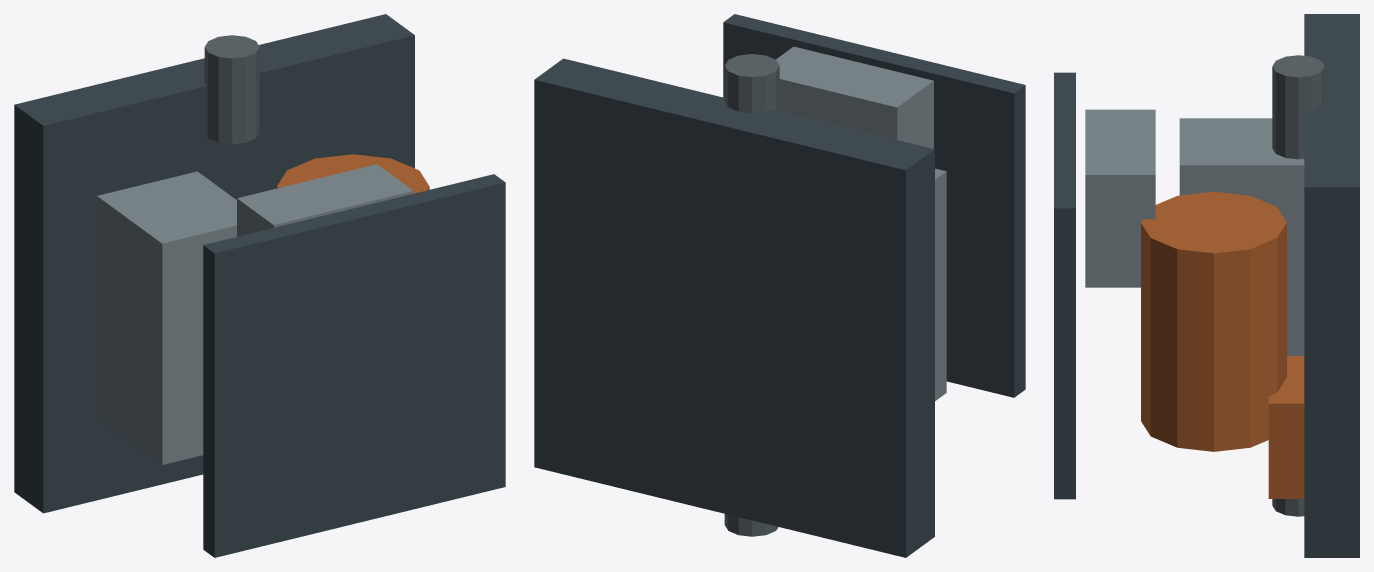
File: tank-ammo-assembling-machine.obj
The picture shows the model from 3 angles, left to right: view 1: azimuth 30°, elevation 25°; view 2: azimuth 150°, elevation 25°; view 3: azimuth 270°, elevation 25°; orthographic projection. The views are drawn at different scales.
Visible parts, largest first — view 1: tank-ammo-assembling-machine_safety_cage, tank-ammo-assembling-machine_factory_base, tank-ammo-assembling-machine_munitions_feeder, tank-ammo-assembling-machine_loading_hopper, tank-ammo-assembling-machine_north_oil_inlet, tank-ammo-assembling-machine_case_former; view 2: tank-ammo-assembling-machine_factory_base, tank-ammo-assembling-machine_safety_cage, tank-ammo-assembling-machine_loading_hopper, tank-ammo-assembling-machine_north_oil_inlet, tank-ammo-assembling-machine_munitions_feeder, tank-ammo-assembling-machine_south_oil_outlet; view 3: tank-ammo-assembling-machine_case_former, tank-ammo-assembling-machine_factory_base, tank-ammo-assembling-machine_loading_hopper, tank-ammo-assembling-machine_munitions_feeder, tank-ammo-assembling-machine_safety_cage, tank-ammo-assembling-machine_output_cases, tank-ammo-assembling-machine_north_oil_inlet, tank-ammo-assembling-machine_south_oil_outlet.
Boxes of the visible parts, <box> form: tank-ammo-assembling-machine_safety_cage: <box>203,174,505,557</box>; tank-ammo-assembling-machine_factory_base: <box>14,14,414,513</box>; tank-ammo-assembling-machine_munitions_feeder: <box>97,171,236,464</box>; tank-ammo-assembling-machine_loading_hopper: <box>237,164,413,236</box>; tank-ammo-assembling-machine_north_oil_inlet: <box>204,35,259,144</box>; tank-ammo-assembling-machine_case_former: <box>277,154,429,193</box>; tank-ammo-assembling-machine_factory_base: <box>534,58,934,557</box>; tank-ammo-assembling-machine_safety_cage: <box>723,14,1025,397</box>; tank-ammo-assembling-machine_loading_hopper: <box>776,46,933,148</box>; tank-ammo-assembling-machine_north_oil_inlet: <box>724,54,779,113</box>; tank-ammo-assembling-machine_munitions_feeder: <box>935,168,946,400</box>; tank-ammo-assembling-machine_south_oil_outlet: <box>724,514,778,536</box>; tank-ammo-assembling-machine_case_former: <box>1141,191,1286,451</box>; tank-ammo-assembling-machine_factory_base: <box>1304,14,1359,557</box>; tank-ammo-assembling-machine_loading_hopper: <box>1085,109,1155,287</box>; tank-ammo-assembling-machine_munitions_feeder: <box>1179,118,1304,355</box>; tank-ammo-assembling-machine_safety_cage: <box>1054,72,1075,499</box>; tank-ammo-assembling-machine_output_cases: <box>1268,356,1304,498</box>; tank-ammo-assembling-machine_north_oil_inlet: <box>1272,55,1324,159</box>; tank-ammo-assembling-machine_south_oil_outlet: <box>1272,499,1304,516</box>.
Size of the model in its own units: 2.81 by 3.32 by 2.1.
